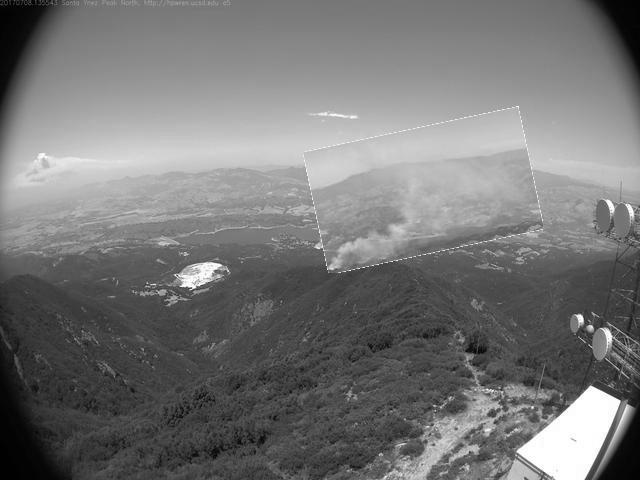smoke: (310, 118, 540, 265)
